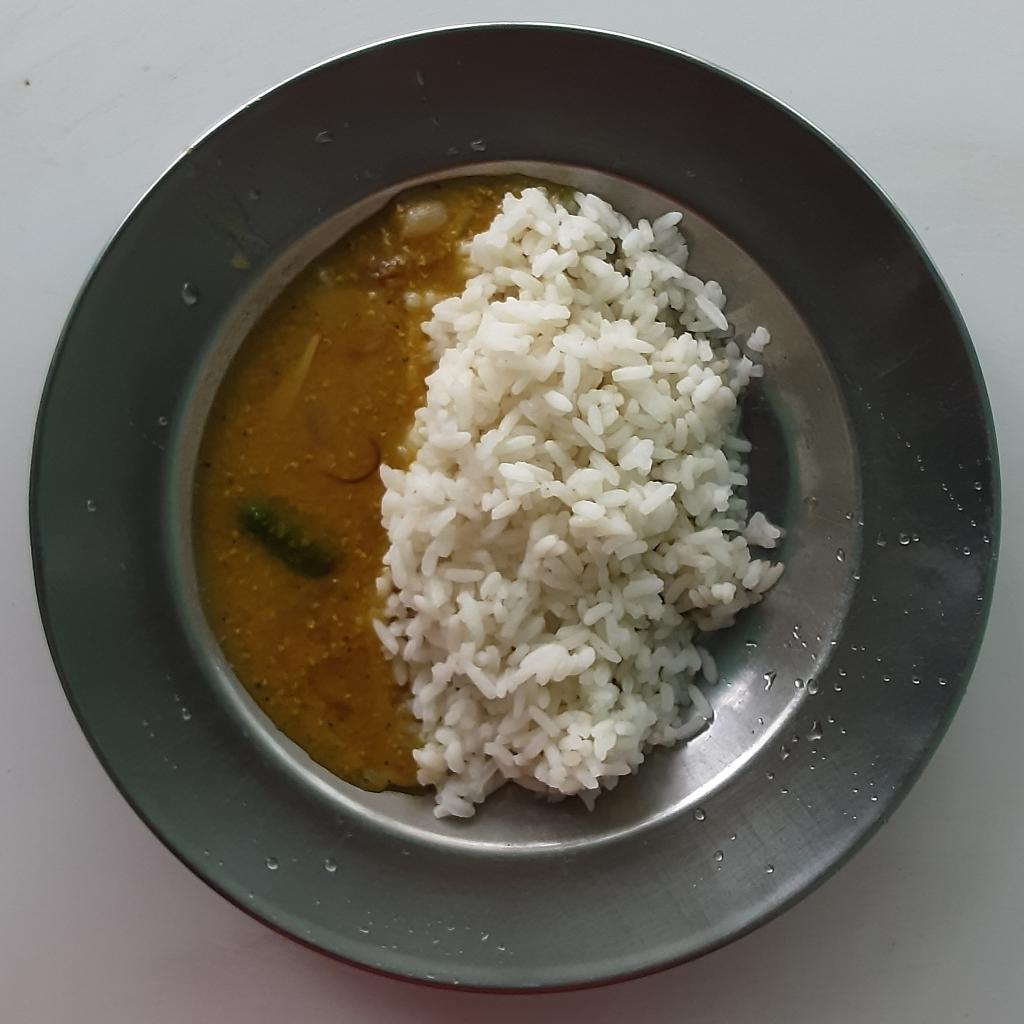daal: (192, 172, 531, 795)
rice: (371, 180, 789, 815)
